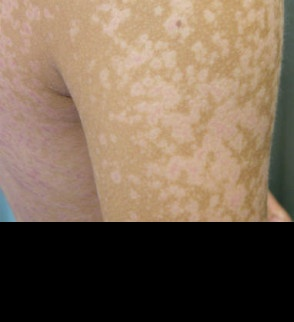SJS-TEN: (76, 0, 280, 218), (0, 0, 94, 224)
